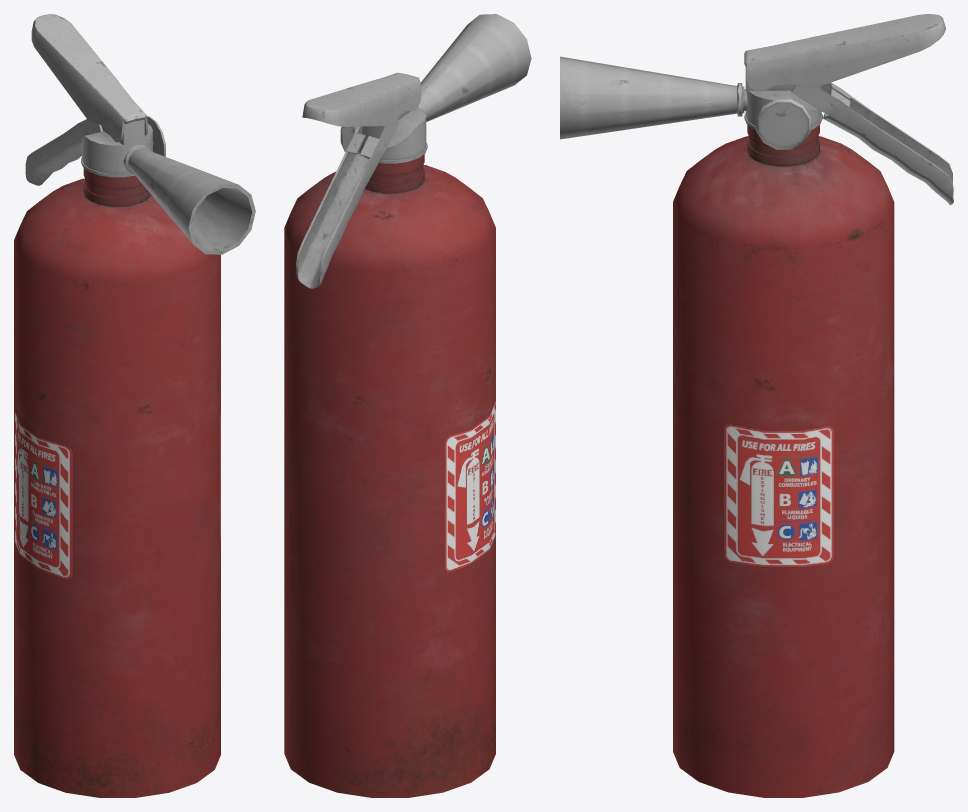
Rendered from fire-extinguisherc.glb.
The picture shows the model from 3 angles, left to right: view 1: azimuth 30°, elevation 25°; view 2: azimuth 150°, elevation 25°; view 3: azimuth 270°, elevation 25°; orthographic projection. The views are drawn at different scales.
Visible parts, largest first — view 1: MainBase, Hose, Handle, TopCap, Lever; view 2: MainBase, Hose, Lever, Handle, TopCap; view 3: MainBase, Hose, Handle, Lever, Measurement, TopCap.
Boxes of the visible parts, x1,y1,x2,y2 form: MainBase: (14,168,220,797); Hose: (123,145,255,254); Handle: (31,14,148,142); TopCap: (81,119,152,177); Lever: (25,119,102,185); MainBase: (284,154,495,797); Hose: (418,14,531,121); Lever: (296,119,399,288); Handle: (302,72,421,126); TopCap: (354,106,427,163); MainBase: (673,125,894,797); Hose: (560,56,747,139); Handle: (744,14,945,91); Lever: (791,82,953,205); Measurement: (756,99,811,149); TopCap: (744,66,822,129).
Size of the model in its own units: 0.1037 by 0.3851 by 0.1876.
Materials: 6 (6 with a texture image).
